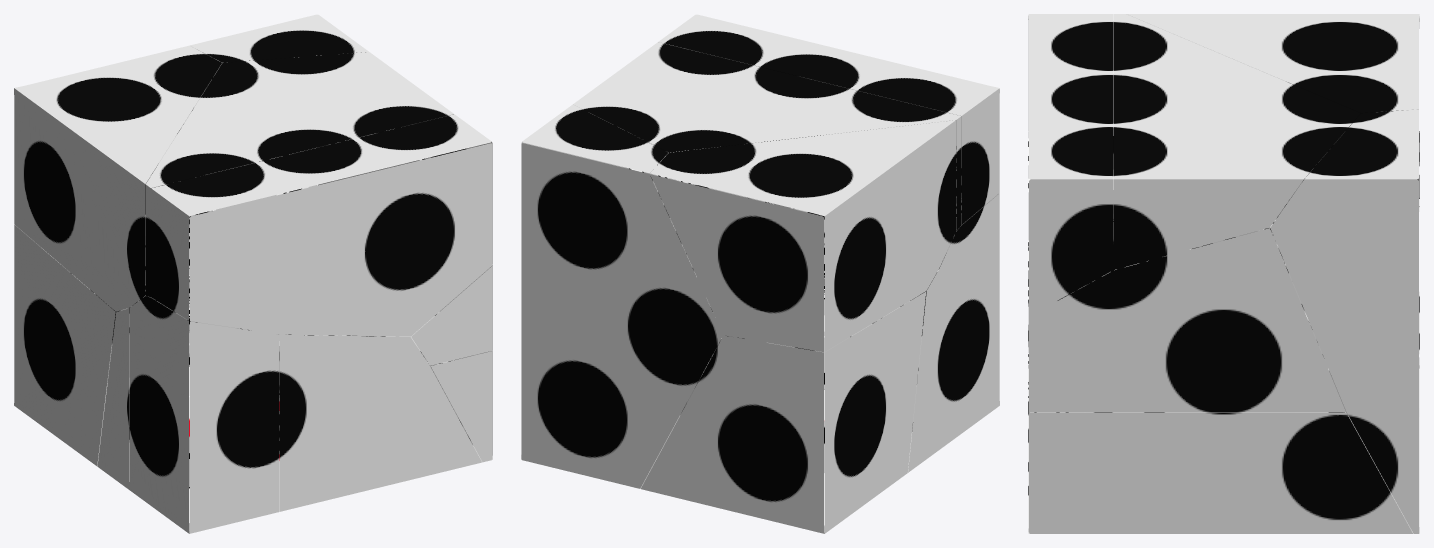
The picture shows the model from 3 angles, left to right: view 1: azimuth 30°, elevation 25°; view 2: azimuth 150°, elevation 25°; view 3: azimuth 270°, elevation 25°; orthographic projection. The views are drawn at different scales.
Parts seen in each view (by area): view 1: Cube_cell, Cube_cell.003, Cube_cell.009, Cube_cell.008, Cube_cell.005, Cube_cell.004, Cube_cell.001, Cube_cell.006, Cube_cell.002, Cube_cell.007; view 2: Cube_cell.001, Cube_cell.003, Cube_cell.004, Cube_cell.005, Cube_cell, Cube_cell.009, Cube_cell.002; view 3: Cube_cell.007, Cube_cell.006, Cube_cell.005, Cube_cell.001, Cube_cell, Cube_cell.003.
Part boxes in pixels (left/top/right/bottom): Cube_cell: left=151, top=114, right=492, bottom=336; Cube_cell.003: left=14, top=45, right=221, bottom=311; Cube_cell.009: left=129, top=296, right=279, bottom=533; Cube_cell.008: left=279, top=334, right=481, bottom=511; Cube_cell.005: left=145, top=52, right=454, bottom=300; Cube_cell.004: left=14, top=224, right=197, bottom=466; Cube_cell.001: left=145, top=14, right=368, bottom=345; Cube_cell.006: left=342, top=158, right=492, bottom=365; Cube_cell.002: left=97, top=275, right=351, bottom=489; Cube_cell.007: left=237, top=328, right=492, bottom=462; Cube_cell.001: left=521, top=104, right=728, bottom=488; Cube_cell.003: left=650, top=120, right=955, bottom=351; Cube_cell.004: left=641, top=291, right=926, bottom=533; Cube_cell.005: left=573, top=42, right=961, bottom=275; Cube_cell: left=658, top=14, right=999, bottom=224; Cube_cell.009: left=910, top=193, right=999, bottom=449; Cube_cell.002: left=824, top=243, right=939, bottom=473; Cube_cell.007: left=1028, top=390, right=1412, bottom=533; Cube_cell.006: left=1028, top=228, right=1345, bottom=411; Cube_cell.005: left=1114, top=14, right=1360, bottom=270; Cube_cell.001: left=1270, top=109, right=1419, bottom=533; Cube_cell: left=1028, top=14, right=1113, bottom=315; Cube_cell.003: left=1126, top=14, right=1419, bottom=243.
Bounding box in the file's own units: 200 × 200 × 200.
